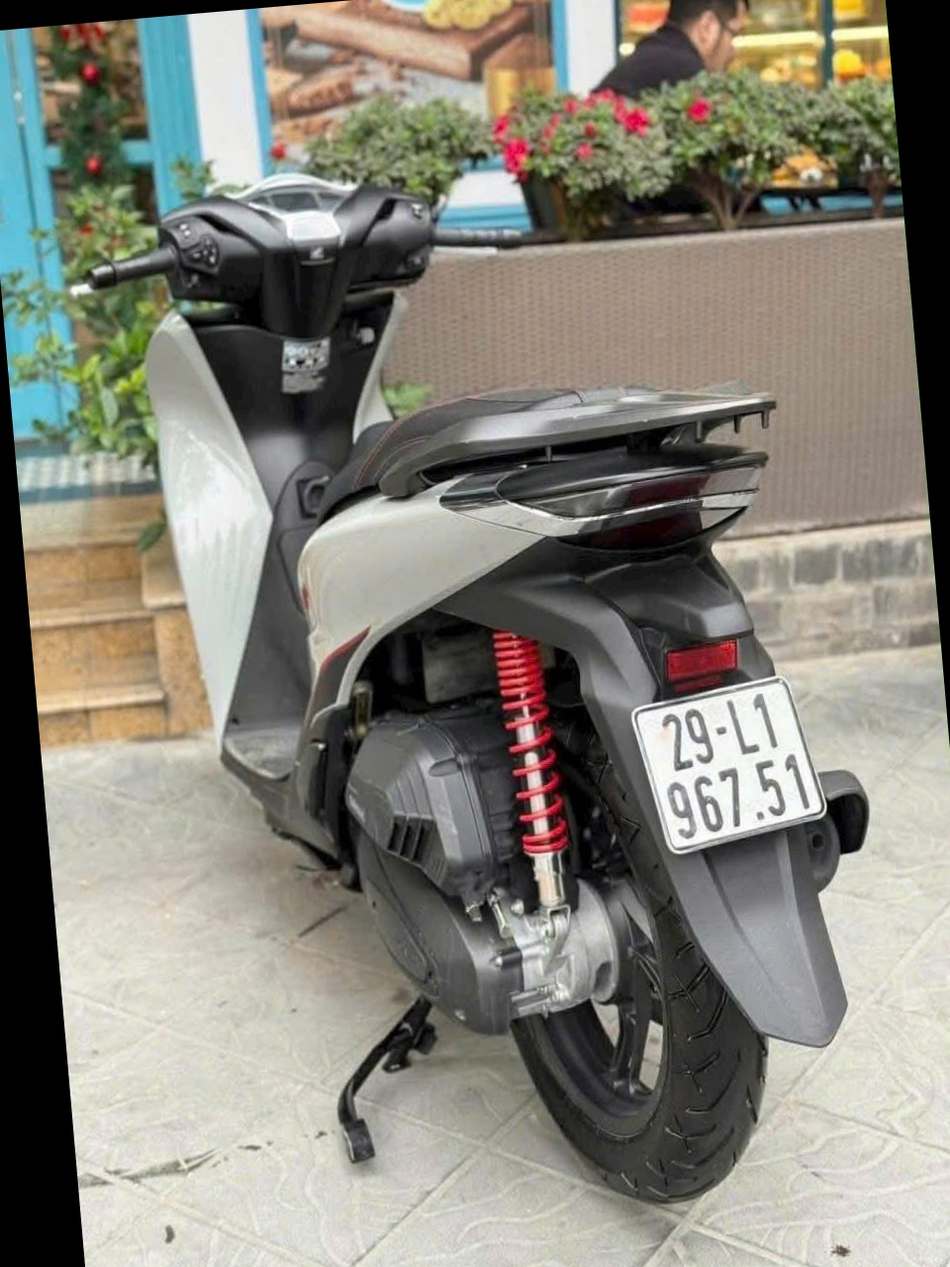Bien-so: (600, 689, 799, 876)
